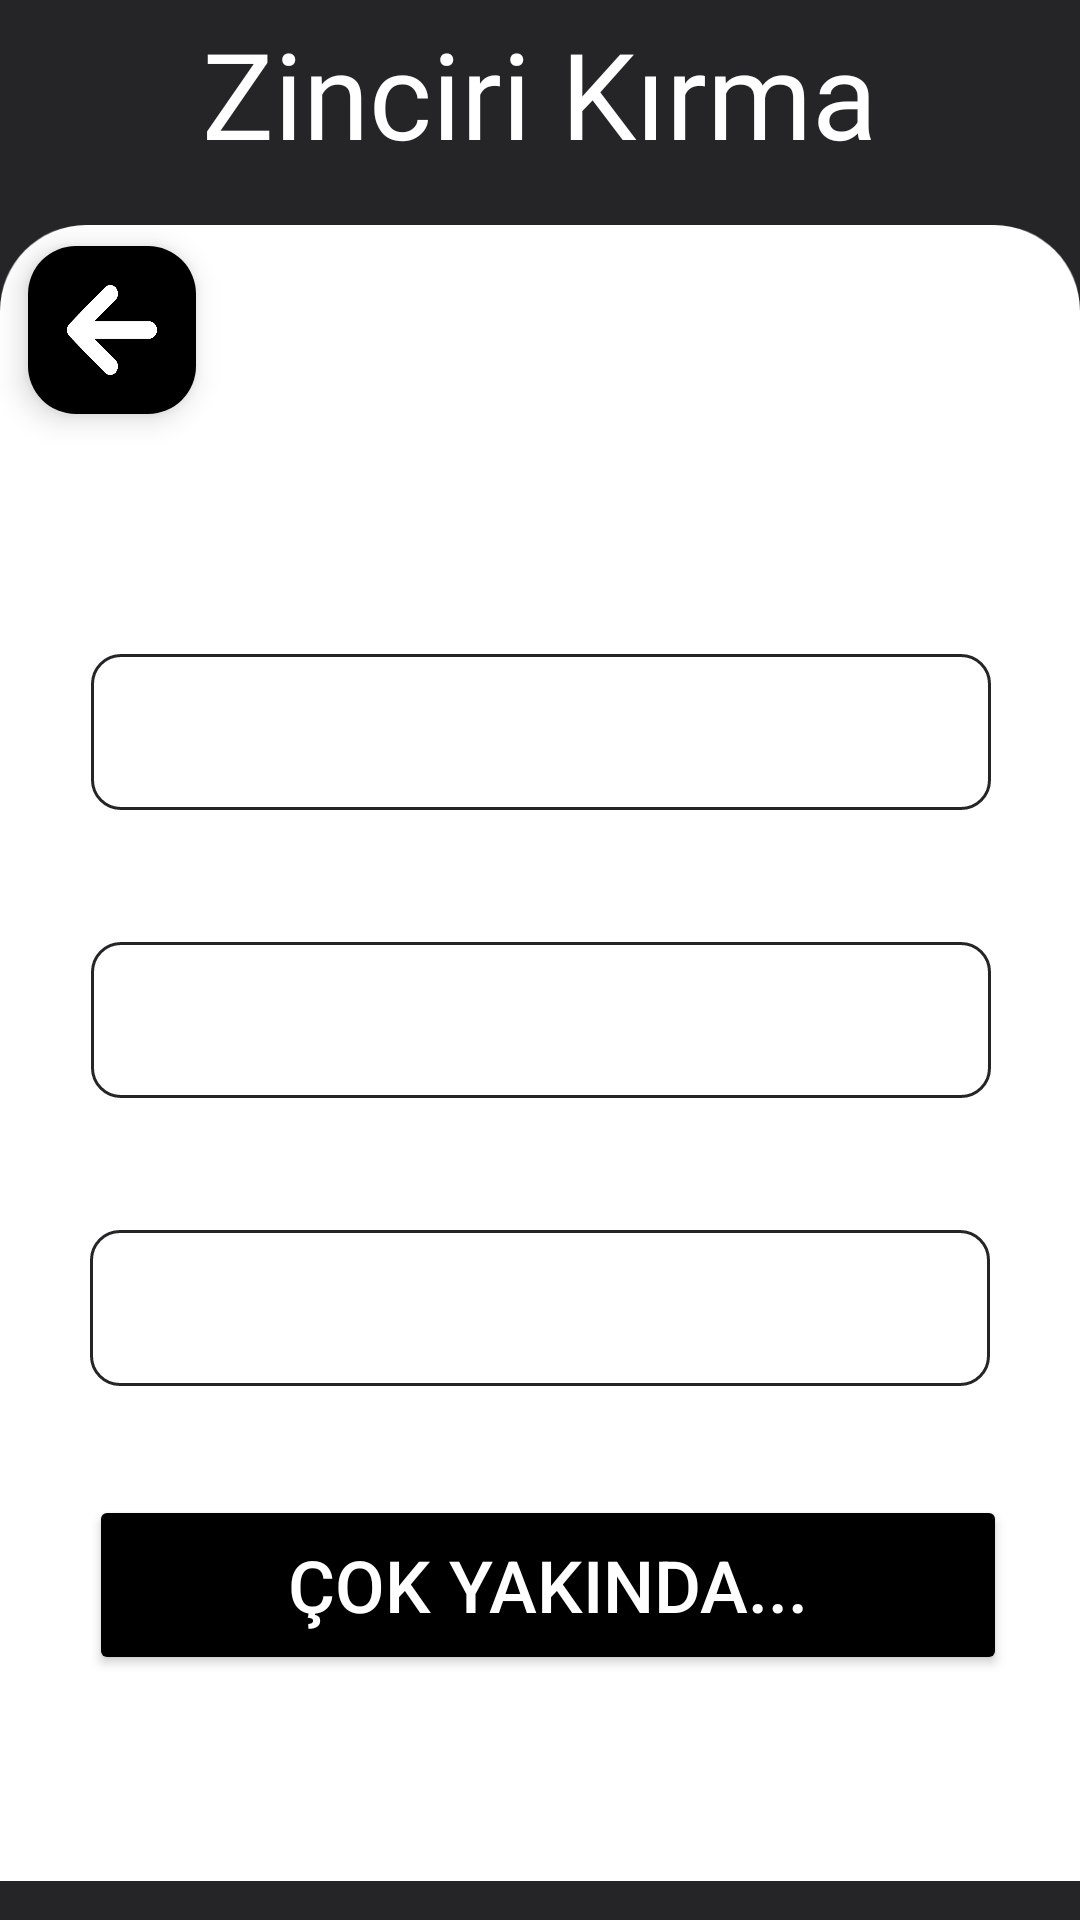

Screen size 1080 x 1920. Icon name, then its box in pixels as bbox=[x1, y1, x2, y2]:
back: bbox=[28, 246, 196, 414]
